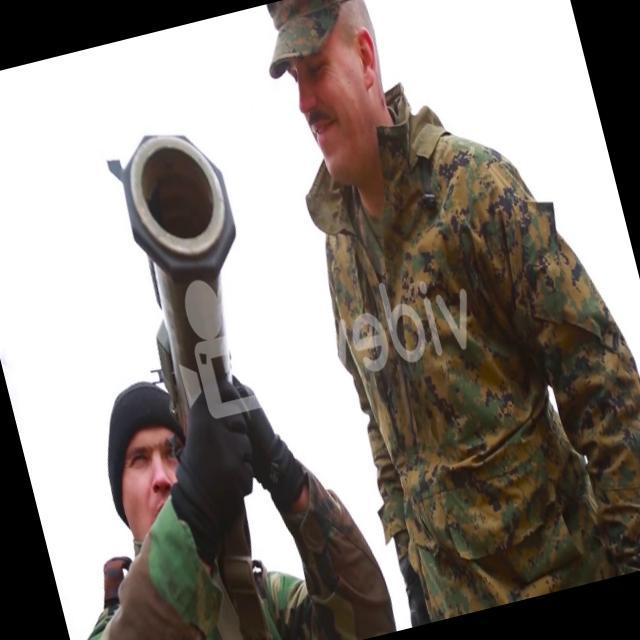rocket: (102, 119, 278, 429)
